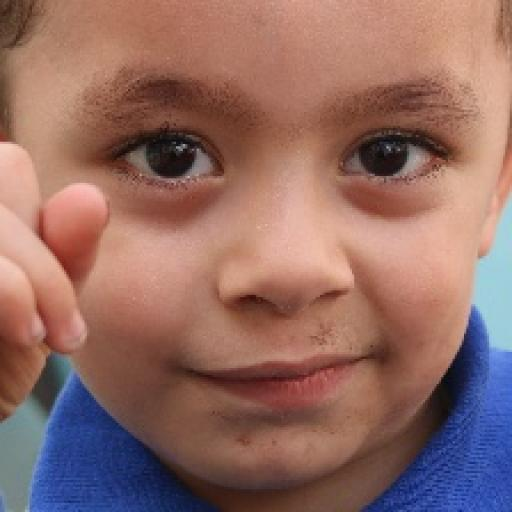Non-Autism: (20, 0, 122, 87)
